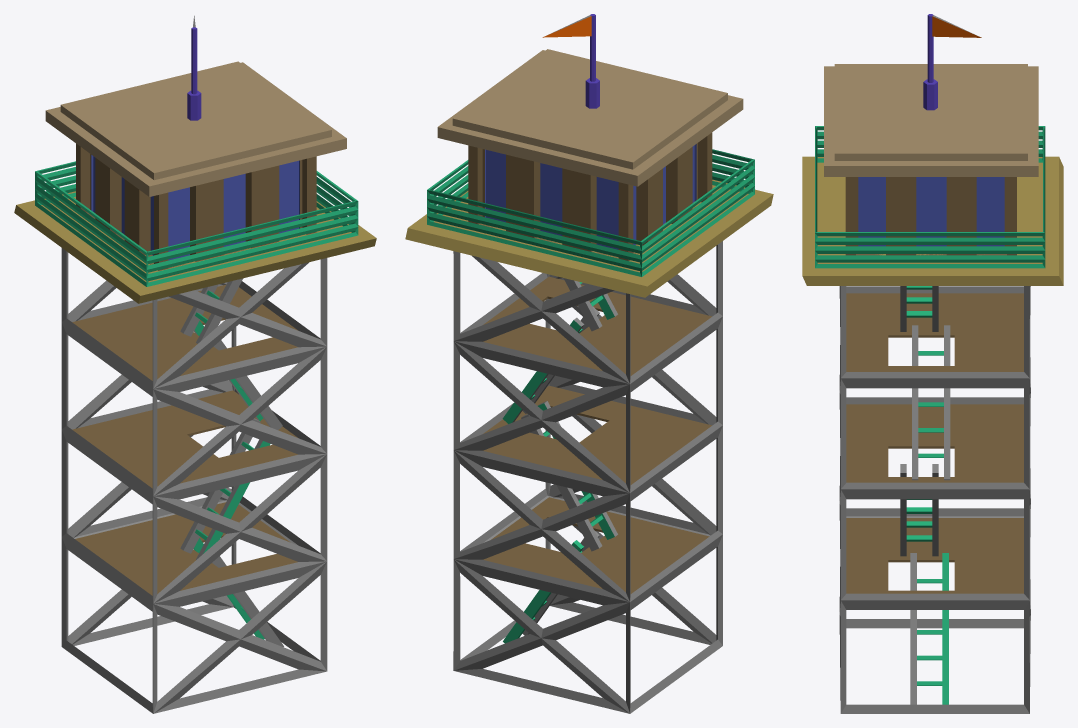
Rendered from Watchower-2.fbx.
3 views of the same model, side by side, from view 1: azimuth 30°, elevation 25°; view 2: azimuth 150°, elevation 25°; view 3: azimuth 270°, elevation 25° (orthographic). The views are drawn at different scales.
Parts seen in each view (by area): view 1: Watchtower-2; view 2: Watchtower-2; view 3: Watchtower-2.
Boxes of the visible parts, <box> form: Watchtower-2: <box>14,15,376,713</box>; Watchtower-2: <box>405,14,773,713</box>; Watchtower-2: <box>802,14,1063,713</box>.
Size of the model in its own units: 9.72 by 24.96 by 9.01.
